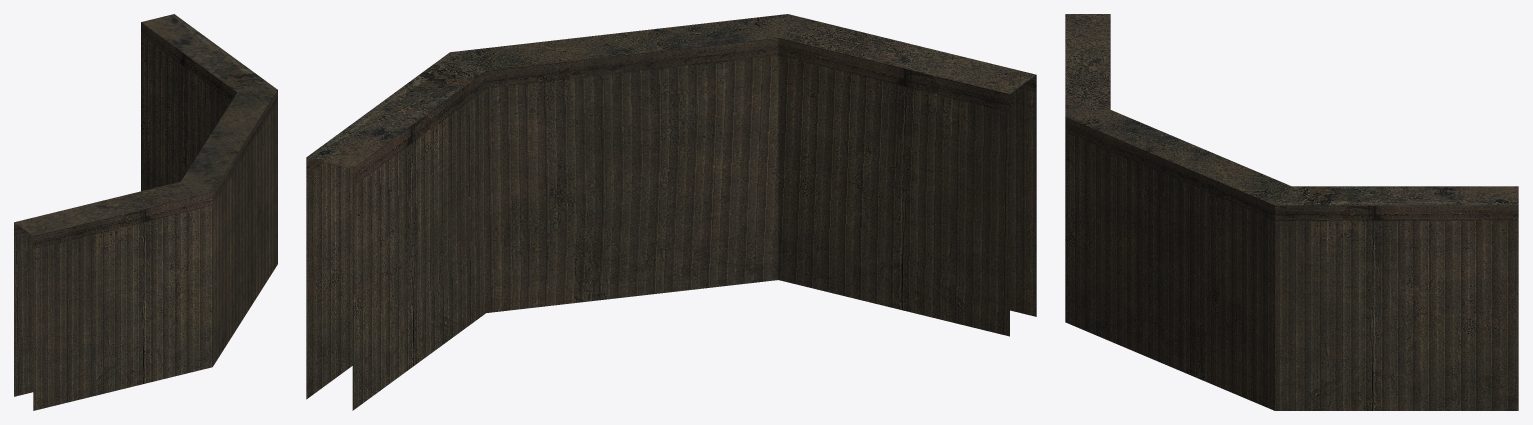
Rendered from wall_rx_1_m2a_1_2_3_height.glb.
3 renders of one model, left to right at view 1: azimuth 30°, elevation 25°; view 2: azimuth 150°, elevation 25°; view 3: azimuth 270°, elevation 25°, orthographic. The views are drawn at different scales.
Parts seen in each view (by area): view 1: wall_rx_1_m2a_1_2/3_height; view 2: wall_rx_1_m2a_1_2/3_height; view 3: wall_rx_1_m2a_1_2/3_height.
Part boxes in pixels (bbox=[...]): wall_rx_1_m2a_1_2/3_height: bbox=[14, 14, 277, 410]; wall_rx_1_m2a_1_2/3_height: bbox=[306, 14, 1036, 410]; wall_rx_1_m2a_1_2/3_height: bbox=[1065, 14, 1518, 410].
Bounding box in the file's own units: 4 × 2 × 4.
Materials: 2 (2 with a texture image).
